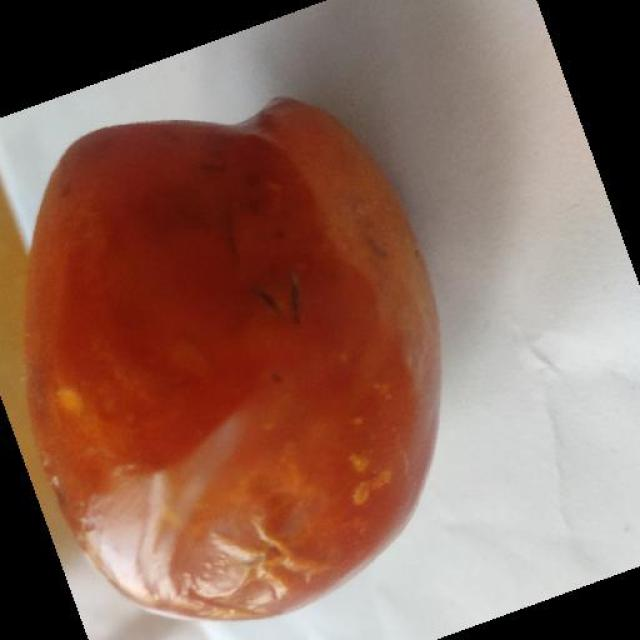Stale_tomato: (29, 116, 430, 614)
